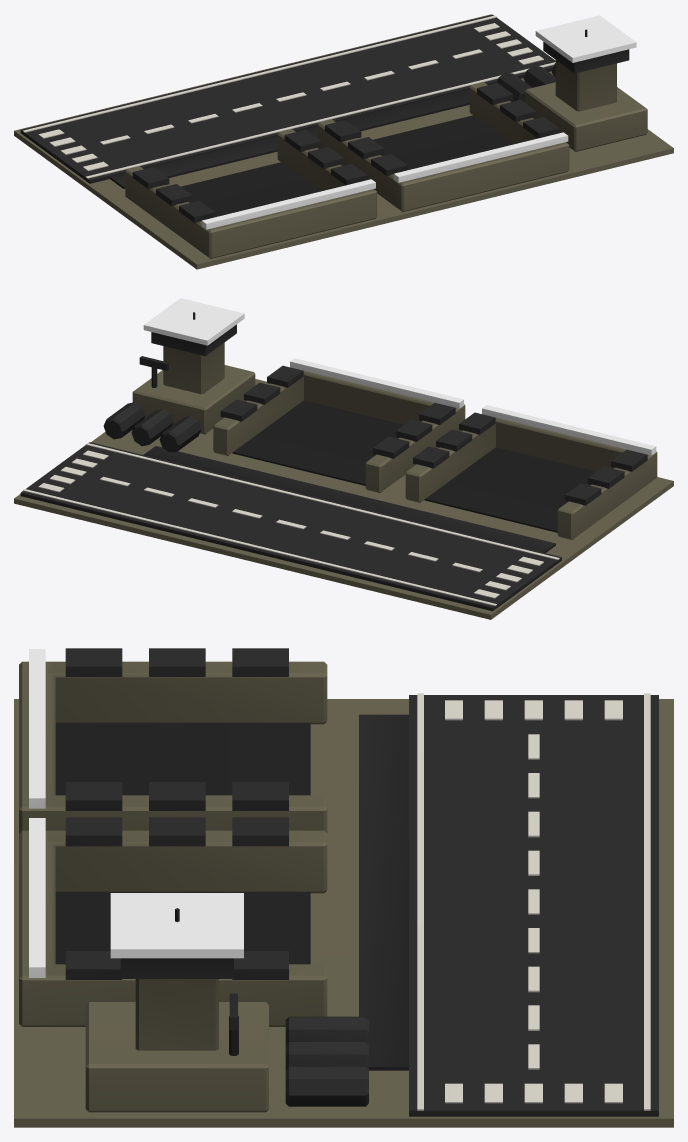
File: ru-airfield.glb
3 views of the same model, one above another, from view 1: azimuth 30°, elevation 25°; view 2: azimuth 150°, elevation 25°; view 3: azimuth 270°, elevation 25° (orthographic). The views are drawn at different scales.
Parts seen in each view (by area): view 1: ru-airfield; view 2: ru-airfield; view 3: ru-airfield.
Part boxes in pixels (left/top/right/bottom): ru-airfield: left=14, top=14, right=673, bottom=269; ru-airfield: left=14, top=298, right=673, bottom=619; ru-airfield: left=14, top=648, right=673, bottom=1127.
Bounding box in the file's own units: 5.96 × 1.2 × 3.96.
